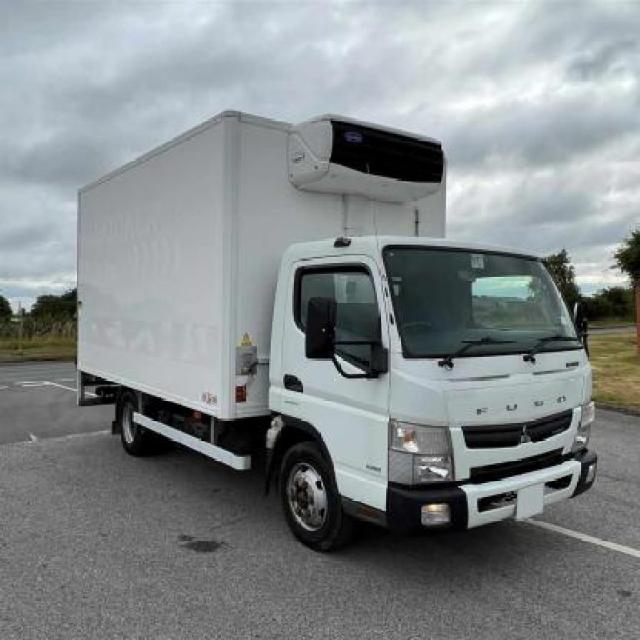truck: (77, 111, 600, 548)
